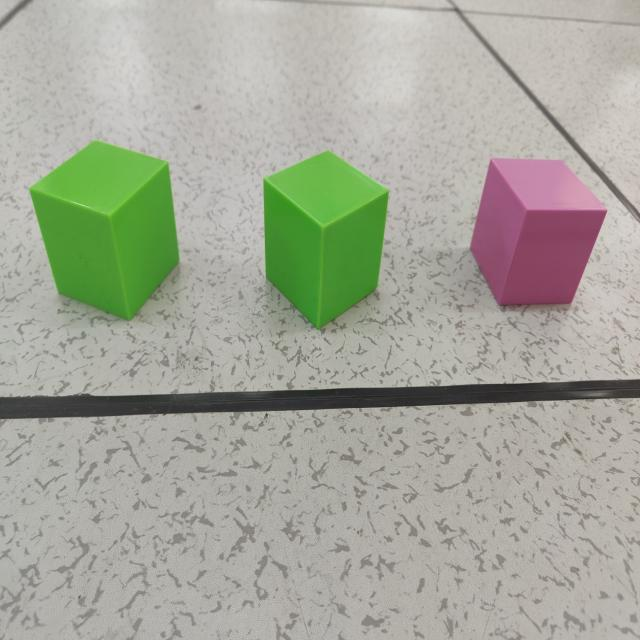green: (28, 142, 180, 322), (263, 152, 390, 330)
pink: (470, 158, 607, 310)
